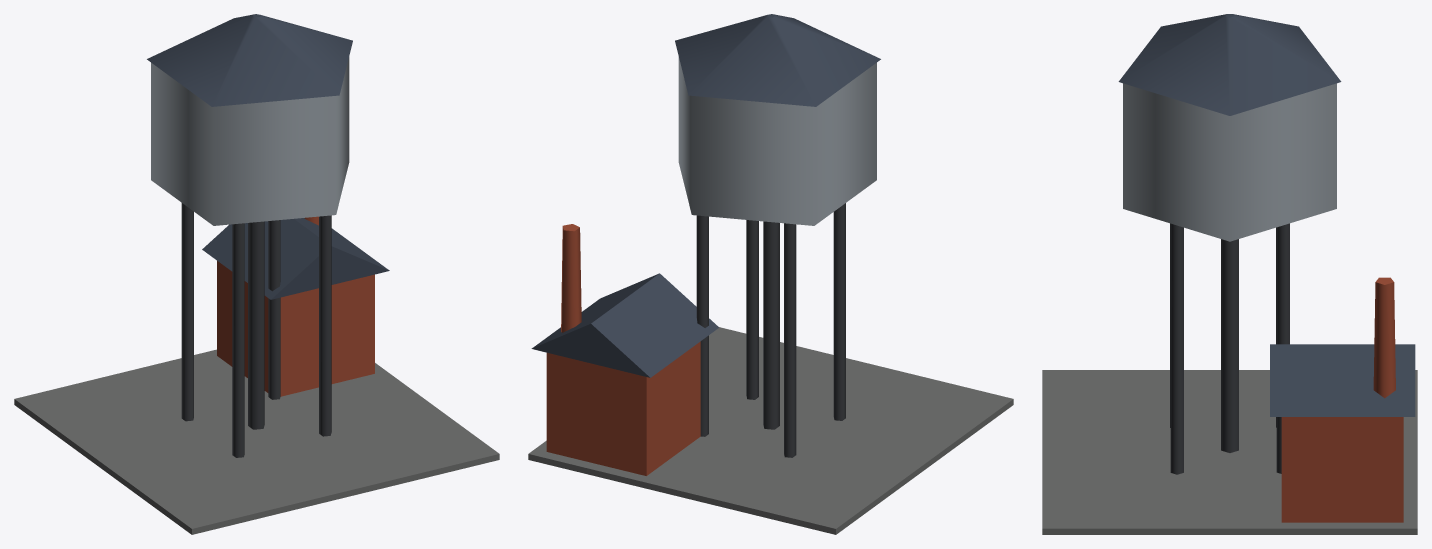
Rendered from bld_special_water_works_a05_lod2.glb.
3 renders of one model, left to right at view 1: azimuth 30°, elevation 25°; view 2: azimuth 150°, elevation 25°; view 3: azimuth 270°, elevation 25°, orthographic. The views are drawn at different scales.
Parts seen in each view (by area): view 1: body; view 2: body; view 3: body.
Part boxes in pixels (x1,y1,x2,y2): body: [14, 14, 499, 534]; body: [528, 14, 1013, 534]; body: [1042, 14, 1417, 534].
Size of the model in its own units: 8 by 10.35 by 8.
